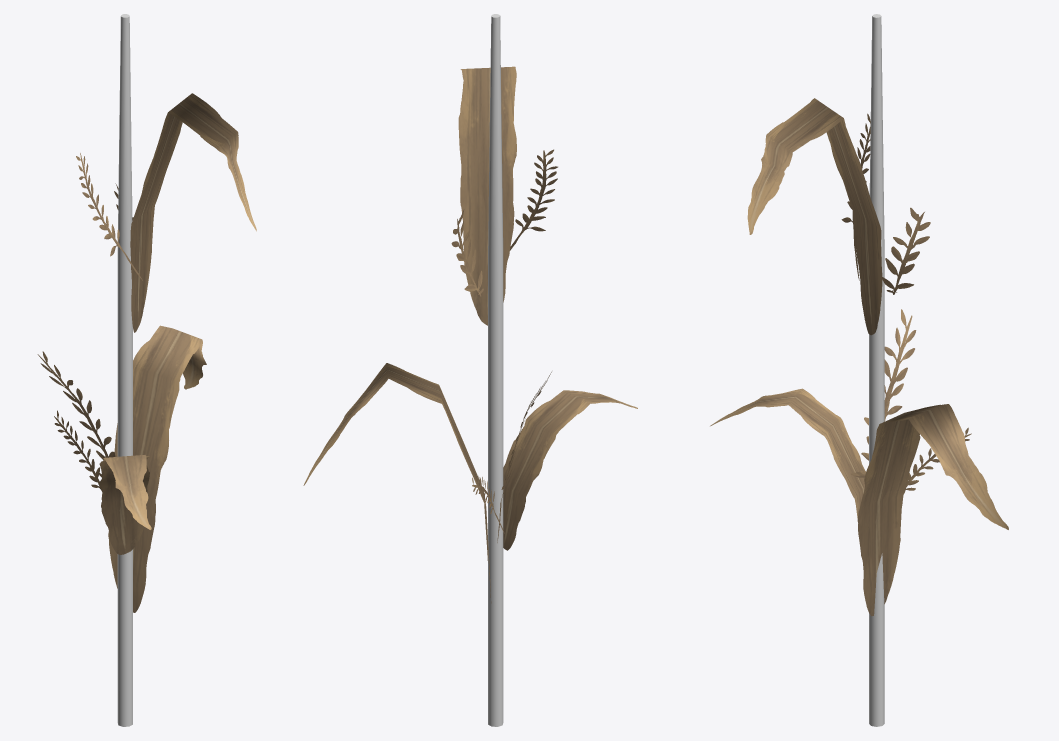
File: DeadCorn1.FBX
3 views of the same model, side by side, from view 1: azimuth 30°, elevation 25°; view 2: azimuth 150°, elevation 25°; view 3: azimuth 270°, elevation 25° (orthographic).
Parts seen in each view (by area): view 1: Cylinder001, Corn Leaf007, Corn Leaf003, Corn Leaf006, LongCornFern002, LongCornFern001, LongCornFern004; view 2: Cylinder001, Corn Leaf003, Corn Leaf006, Corn Leaf007, LongCornFern001, ShortCornFern002; view 3: Corn Leaf007, Corn Leaf003, Cylinder001, Corn Leaf006, LongCornFern002, ShortCornFern002.
Part boxes in pixels (x1,y1,x2,y2): Cylinder001: (117,14,132,726); Corn Leaf007: (108,325,206,612); Corn Leaf003: (130,93,256,332); Corn Leaf006: (99,455,151,554); LongCornFern002: (37,351,115,477); LongCornFern001: (76,153,142,280); LongCornFern004: (54,410,102,491); Cylinder001: (488,14,503,726); Corn Leaf003: (458,66,516,325); Corn Leaf006: (503,390,637,550); Corn Leaf007: (303,363,491,603); LongCornFern001: (510,149,557,250); ShortCornFern002: (451,209,483,296); Corn Leaf007: (857,404,1008,616); Corn Leaf003: (747,98,882,335); Cylinder001: (869,14,884,726); Corn Leaf006: (710,388,865,521); LongCornFern002: (851,309,916,477); ShortCornFern002: (882,207,930,294).
Bounding box in the file's own units: 23.24 × 66.31 × 29.83.
Materials: 3 (3 with a texture image).
